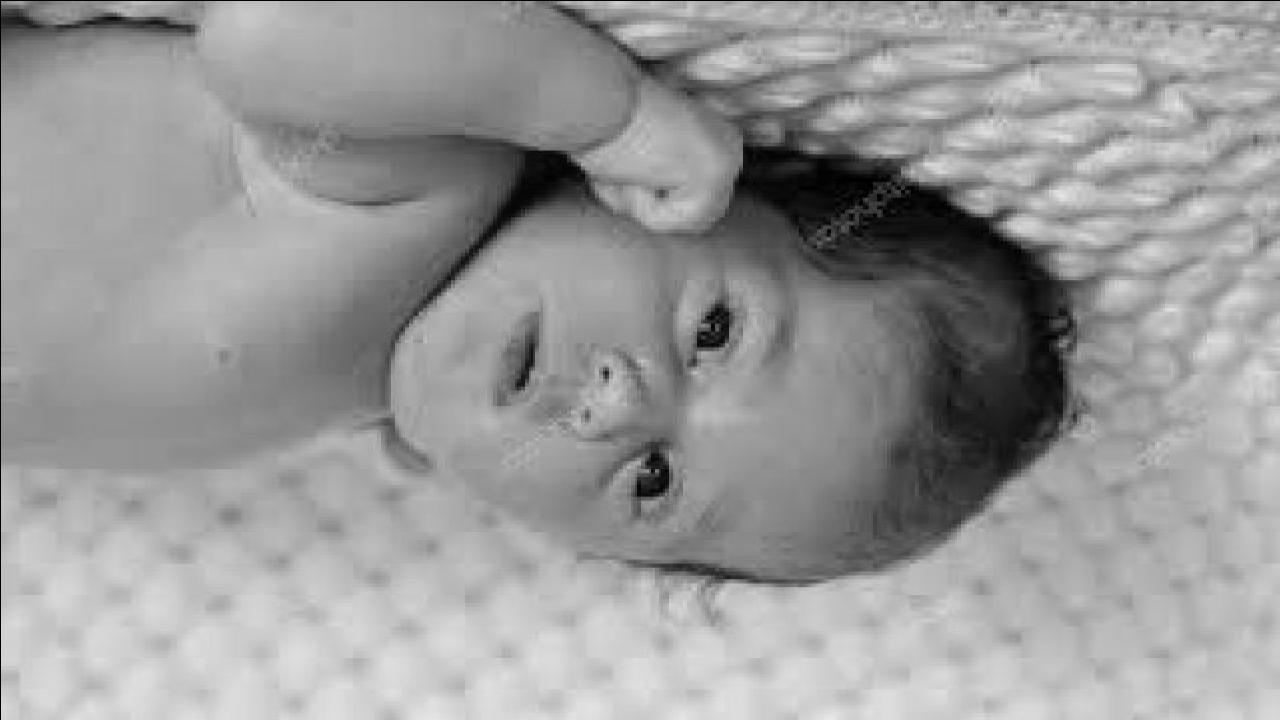hand: (586, 86, 749, 231)
